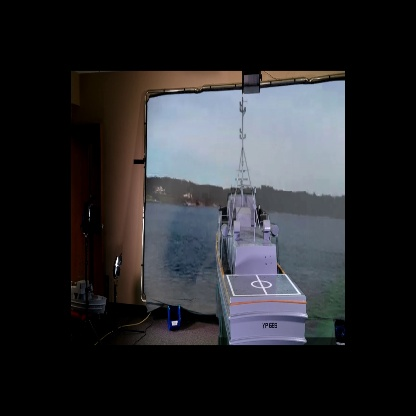YP689: (215, 105, 310, 345)
